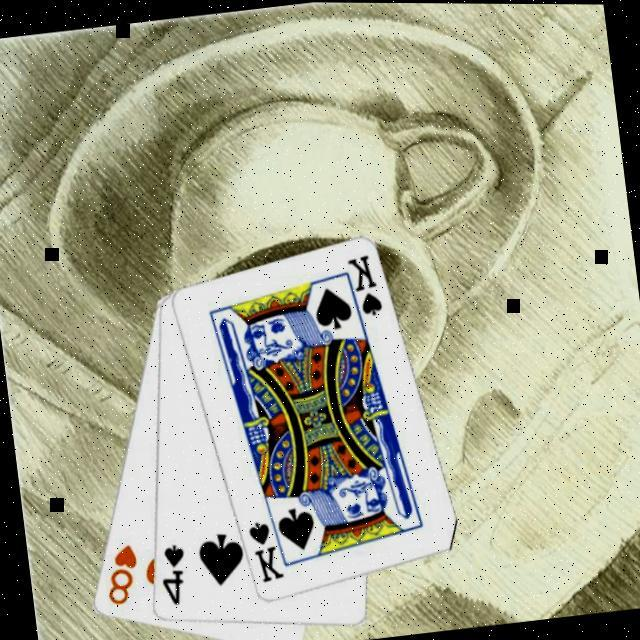4S: (151, 541, 191, 610)
8H: (95, 540, 144, 610)
KS: (336, 251, 384, 330), (241, 516, 285, 588)
